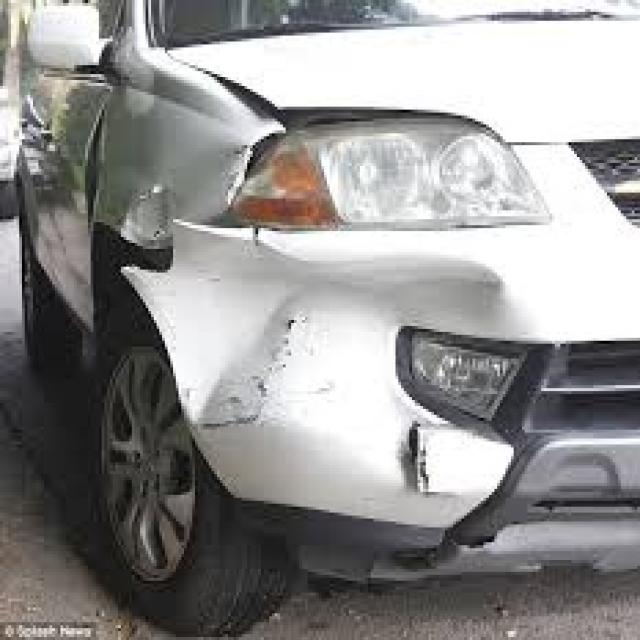moderate: (66, 88, 368, 434)
